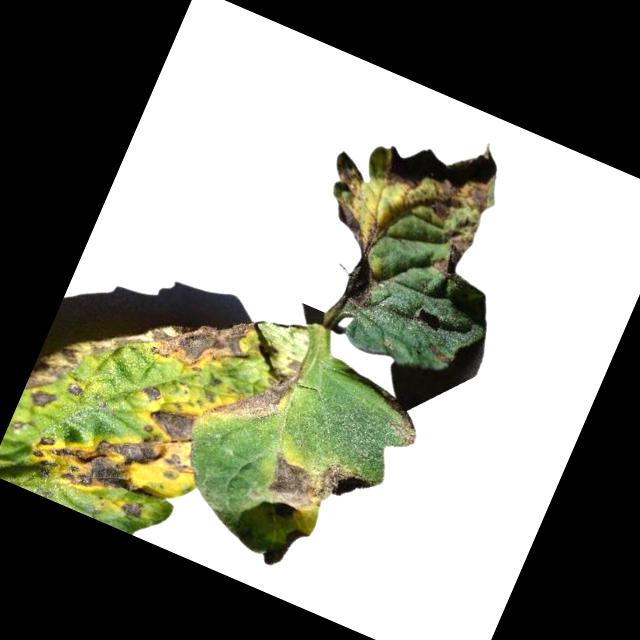Early_blight: (1, 239, 266, 527), (282, 91, 514, 344), (256, 445, 375, 540), (209, 347, 302, 441), (384, 407, 424, 447), (116, 495, 145, 523), (422, 342, 452, 366)
